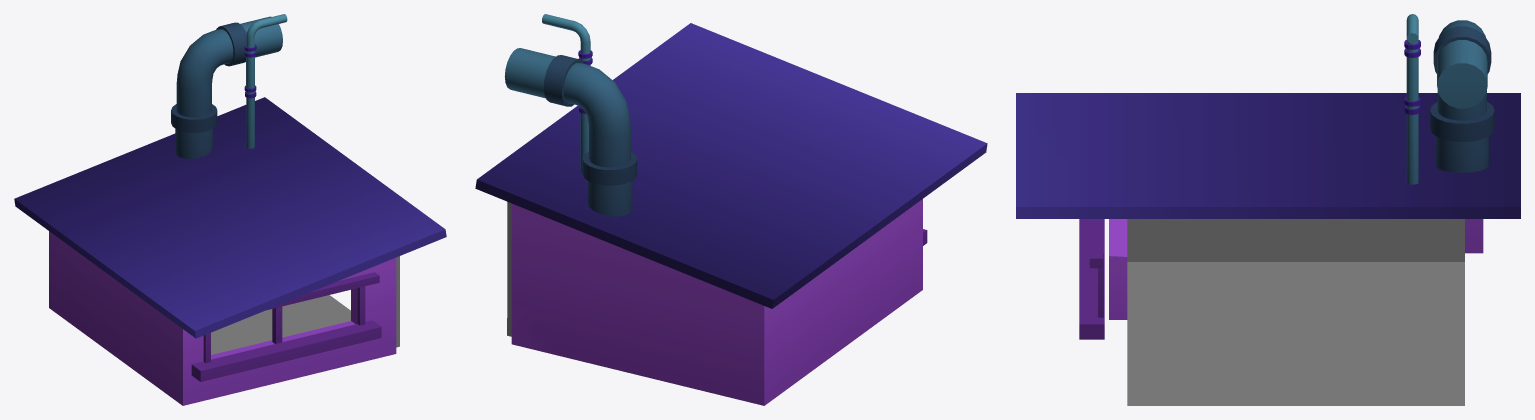
File: scene_building_left_2.obj
3 renders of one model, left to right at view 1: azimuth 30°, elevation 25°; view 2: azimuth 150°, elevation 25°; view 3: azimuth 270°, elevation 25°, orthographic. The views are drawn at different scales.
Parts seen in each view (by area): view 1: building_left_2; view 2: building_left_2; view 3: building_left_2.
Boxes of the visible parts, <box> form: building_left_2: <box>14,14,446,405</box>; building_left_2: <box>475,14,987,405</box>; building_left_2: <box>1016,14,1520,405</box>.
Size of the model in its own units: 591 by 587 by 734.
Materials: 2 (1 with a texture image).
